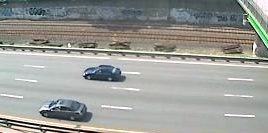car: (37, 97, 90, 121), (80, 63, 124, 84)
